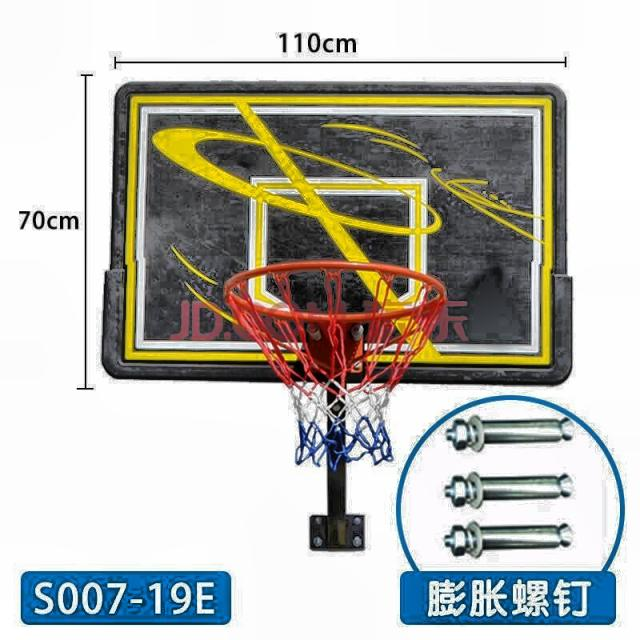rim: (224, 258, 446, 469)
